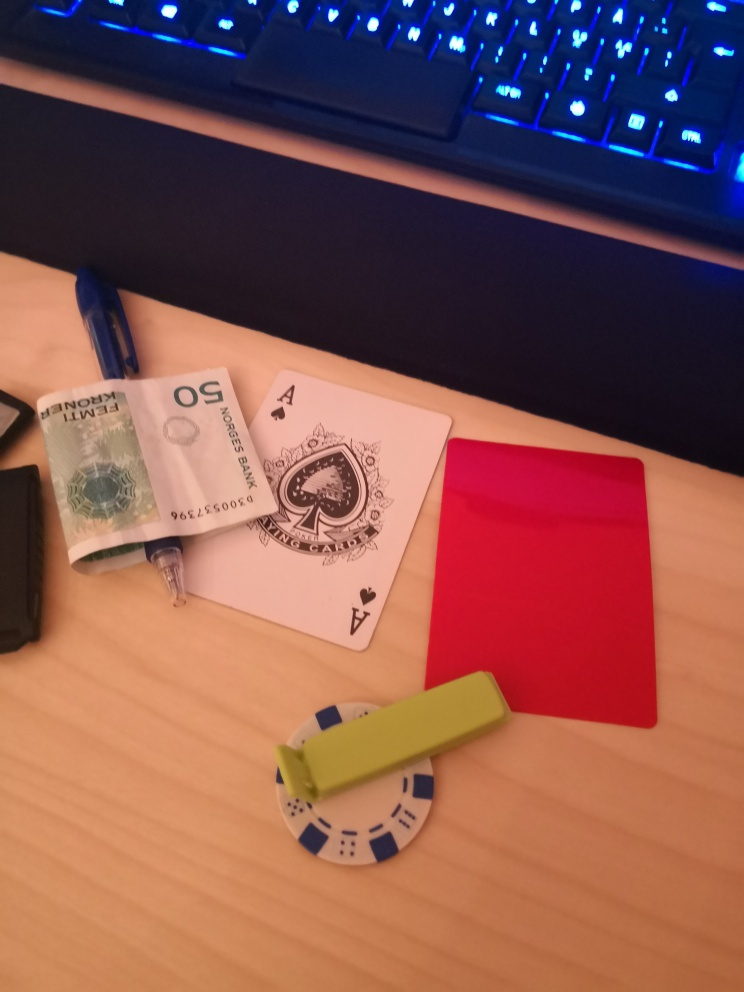ace: (174, 368, 453, 652)
